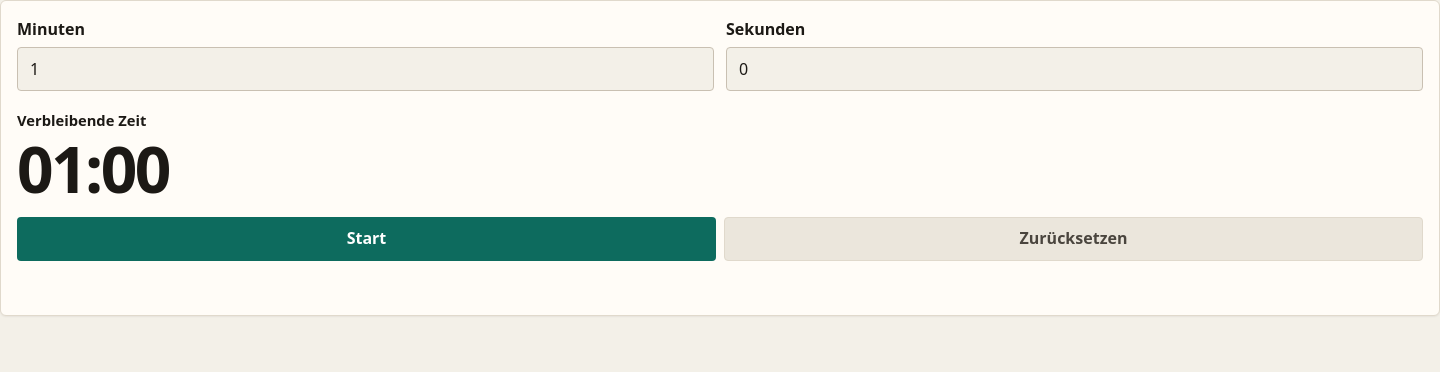
Test case: TimerTool › rejects an empty duration
The width and height of the screenshot is (1440, 372).
Clear the field labelled "Minuten" at (366, 69), box [17, 47, 714, 91]
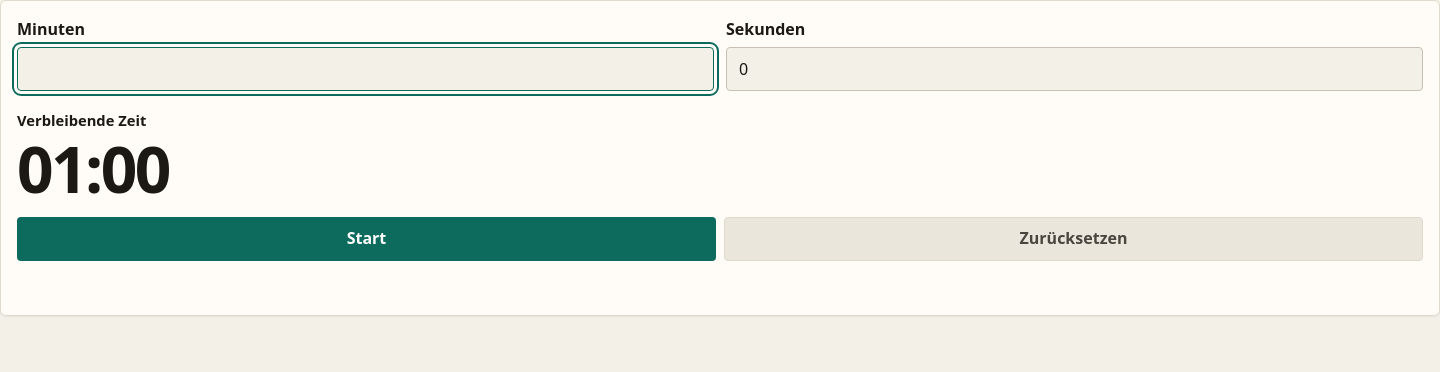
Clear the field labelled "Sekunden" at (1074, 69), box [726, 47, 1423, 91]
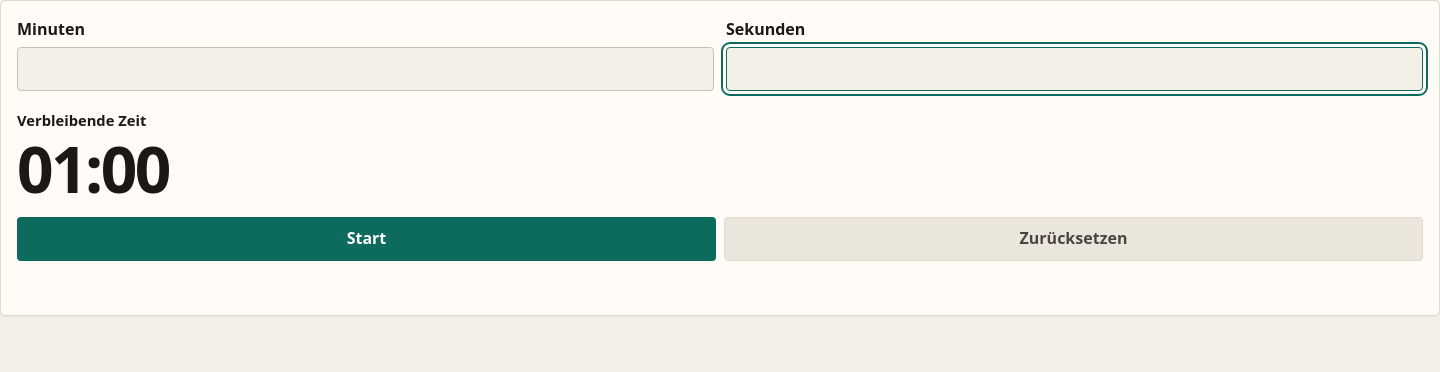
Click the button "Start" at (366, 239), box [17, 217, 716, 261]
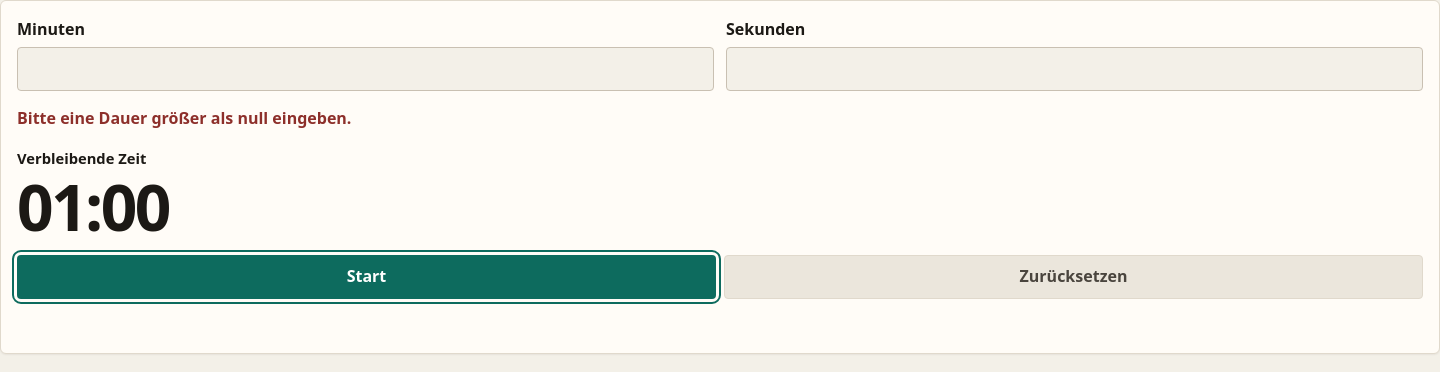
Now the message "Bitte eine Dauer größer als null eingeben." is shown, box [17, 107, 351, 129]
